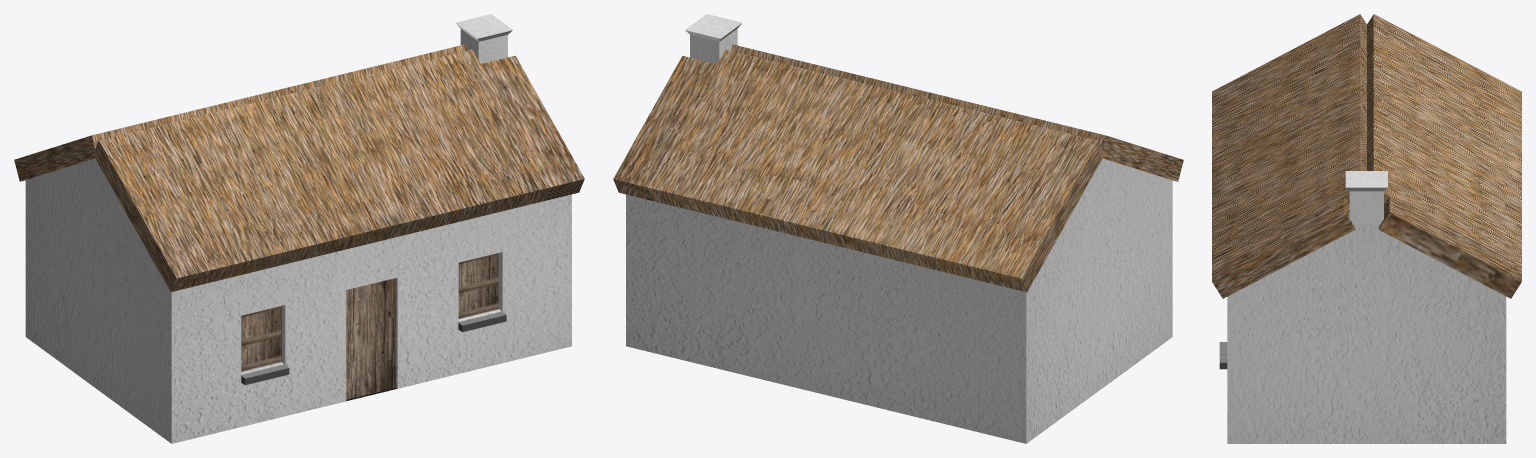
The model's file is House.fbx.
The picture shows the model from 3 angles, left to right: view 1: azimuth 30°, elevation 25°; view 2: azimuth 150°, elevation 25°; view 3: azimuth 270°, elevation 25°; orthographic projection. The views are drawn at different scales.
Parts seen in each view (by area): view 1: pCube3, pCube4, pCube5; view 2: pCube3, pCube5, pCube4; view 3: pCube3, pCube4, pCube5.
Boxes of the visible parts, x1,y1,x2,y2 form: pCube3: [25, 14, 571, 443]; pCube4: [93, 49, 584, 291]; pCube5: [14, 44, 466, 181]; pCube3: [626, 14, 1172, 443]; pCube5: [613, 49, 1102, 292]; pCube4: [731, 44, 1183, 181]; pCube3: [1219, 171, 1506, 443]; pCube4: [1212, 14, 1366, 298]; pCube5: [1367, 14, 1521, 298].
Bounding box in the file's own units: 20.73 × 13.09 × 14.26.
